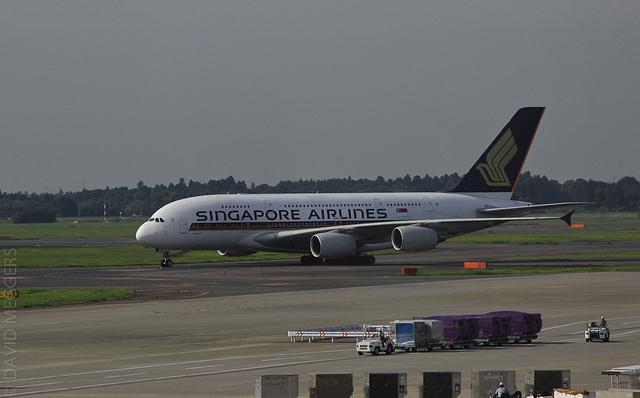airplane: (135, 104, 596, 269)
